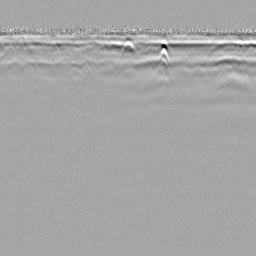cavity: (118, 37, 140, 59)
